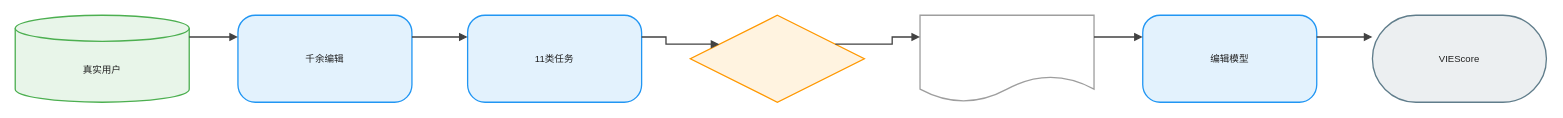
This 1563x118 diagram has some shape labels left out. Each missing label, with the box of its shape:
606测试: (919, 14, 1094, 102)
多样性筛选: (689, 14, 865, 102)
